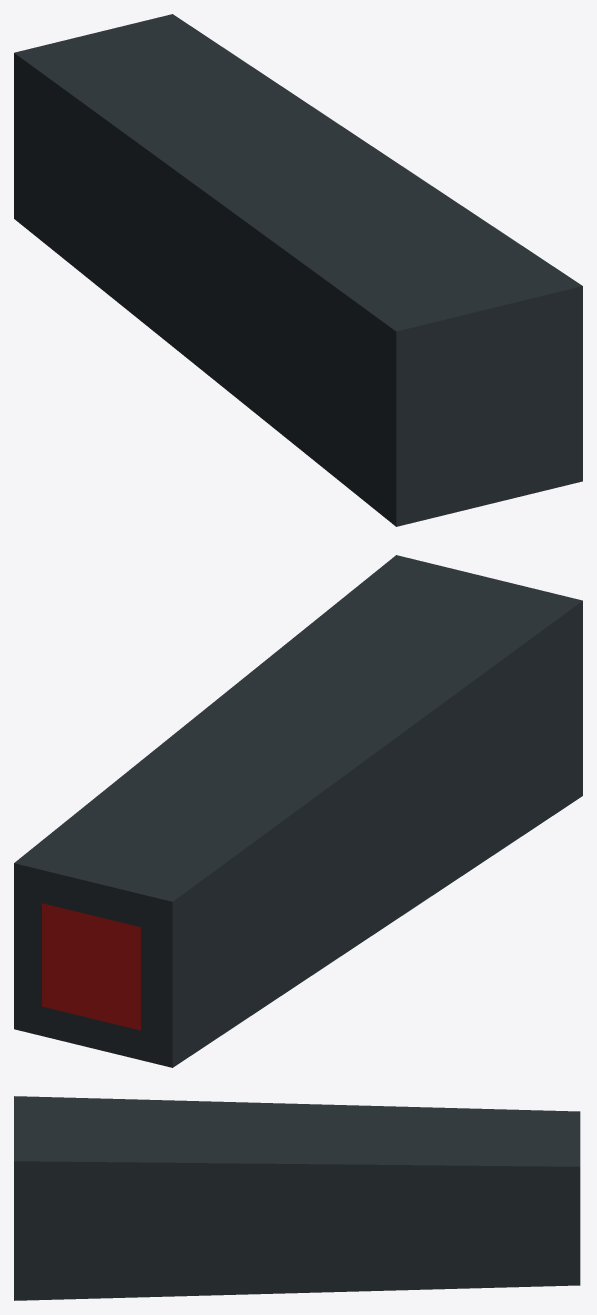
3 renders of one model, top to bottom at view 1: azimuth 30°, elevation 25°; view 2: azimuth 150°, elevation 25°; view 3: azimuth 270°, elevation 25°, orthographic. The views are drawn at different scales.
Parts seen in each view (by area): view 1: mount; view 2: mount; view 3: mount.
Part boxes in pixels (box(x1,y1,x2,y2)): mount: box(14, 14, 582, 526); mount: box(14, 555, 582, 1067); mount: box(14, 1096, 580, 1300).
Size of the model in its own units: 1.77 by 1.77 by 6.53.
